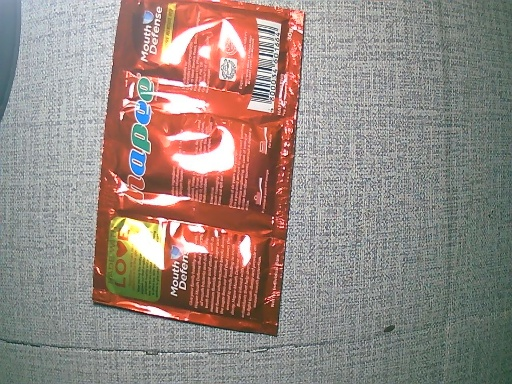plastic: (92, 1, 305, 340)
